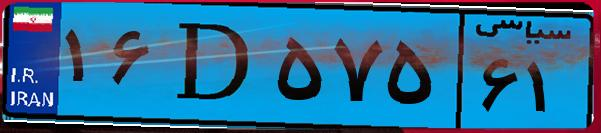1: (57, 26, 110, 100), (525, 38, 570, 115)
5: (270, 28, 330, 110), (385, 28, 445, 110)
6: (475, 38, 525, 113), (110, 28, 158, 98)
7: (330, 28, 385, 110)
D: (158, 12, 270, 120)
